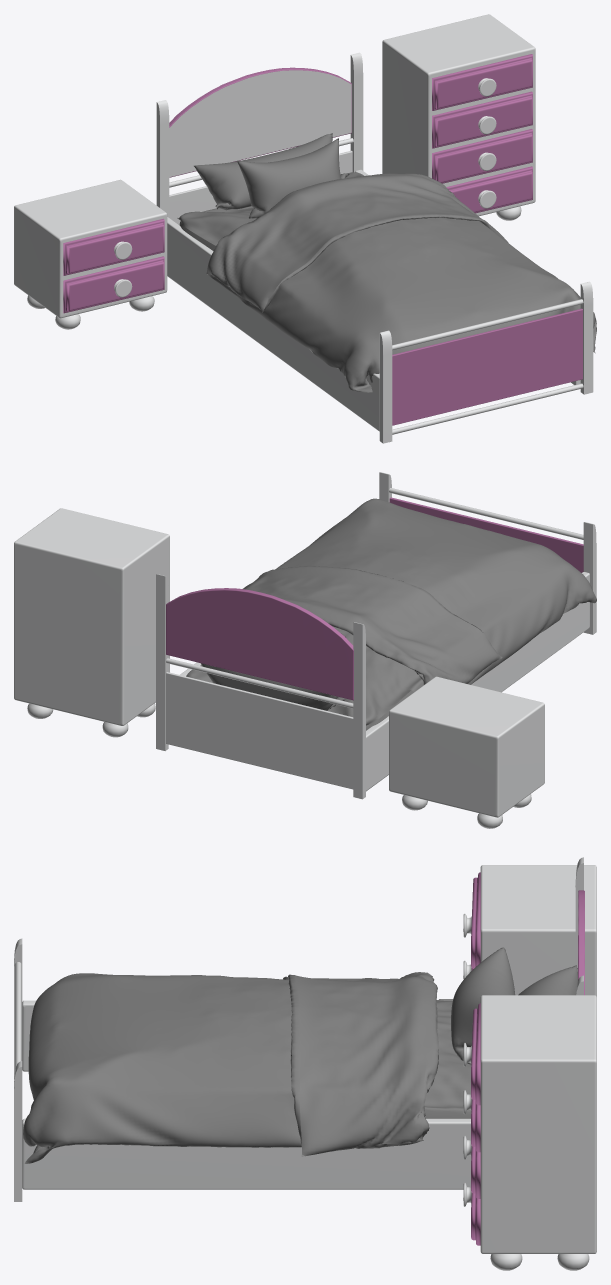
Rendered from Free 3D Kids Bed Set Model.fbx.
3 renders of one model, top to bottom at view 1: azimuth 30°, elevation 25°; view 2: azimuth 150°, elevation 25°; view 3: azimuth 270°, elevation 25°, orthographic. The views are drawn at different scales.
Visible parts, largest first — view 1: Object006_1, yorgan, Box019, Box069, kitty, Box029, Box071, Box072, Box070, Object004_1, Object005_1, tasho (+8 smaller); view 2: Box069, Object006_1, Box071, Box025, yorgan, Box067, Box072, tasho, Box019, Box074, Box068, Object005_1 (+3 smaller); view 3: Object006_1, Box069, yorgan, Box021, Box071, tasho, Object004_1, Box029, Box020, Object005_1, Box070, Cylinder007 (+3 smaller).
Part boxes in pixels (<box>): Object006_1: <box>208,217,596,392</box>; yorgan: <box>206,173,594,388</box>; Box019: <box>392,308,582,425</box>; Box069: <box>382,14,535,216</box>; kitty: <box>169,70,351,177</box>; Box029: <box>432,54,532,213</box>; Box071: <box>14,179,167,318</box>; Box072: <box>167,217,379,431</box>; Box070: <box>63,218,164,313</box>; Object004_1: <box>237,138,341,218</box>; Object005_1: <box>194,133,349,210</box>; tasho: <box>177,172,363,250</box>; Box069: <box>14,508,169,725</box>; Object006_1: <box>275,498,596,684</box>; Box071: <box>389,676,544,817</box>; Box025: <box>166,588,353,700</box>; yorgan: <box>243,566,541,684</box>; Box067: <box>166,672,353,789</box>; Box072: <box>366,572,589,791</box>; tasho: <box>186,626,423,730</box>; Box019: <box>389,497,583,572</box>; Box074: <box>353,622,365,799</box>; Box068: <box>156,574,168,750</box>; Object005_1: <box>201,663,345,710</box>; Object006_1: <box>23,973,423,1163</box>; Box069: <box>480,995,596,1253</box>; yorgan: <box>33,972,438,1156</box>; Box021: <box>22,1118,471,1189</box>; Box071: <box>480,865,596,996</box>; tasho: <box>424,999,471,1118</box>; Object004_1: <box>451,947,515,1064</box>; Box029: <box>471,1003,480,1245</box>; Box020: <box>14,1061,22,1201</box>; Object005_1: <box>518,965,577,995</box>; Box070: <box>471,872,480,970</box>; Cylinder007: <box>15,962,21,1068</box>.
Size of the model in its own units: 20.16 by 7.25 by 17.09.
